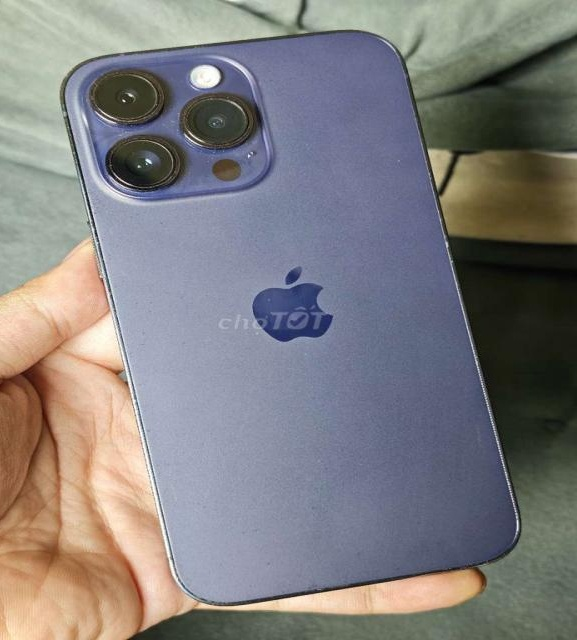scratch: (90, 120, 187, 211), (172, 90, 264, 167), (69, 64, 172, 132), (130, 360, 156, 444), (245, 287, 280, 345), (460, 415, 491, 466), (303, 578, 335, 597), (196, 594, 231, 610), (265, 560, 279, 577), (155, 216, 170, 230)
